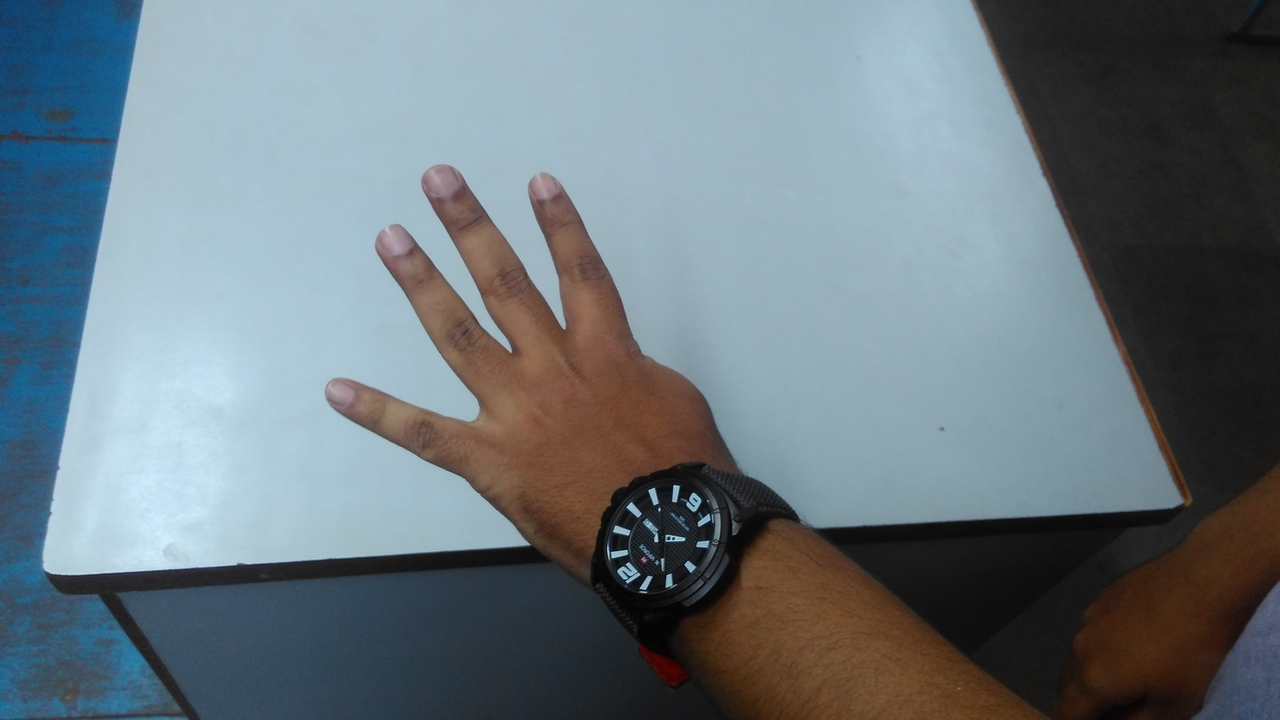fingertip: (306, 372, 386, 428), (360, 210, 428, 270), (404, 156, 478, 210), (516, 162, 582, 218)
